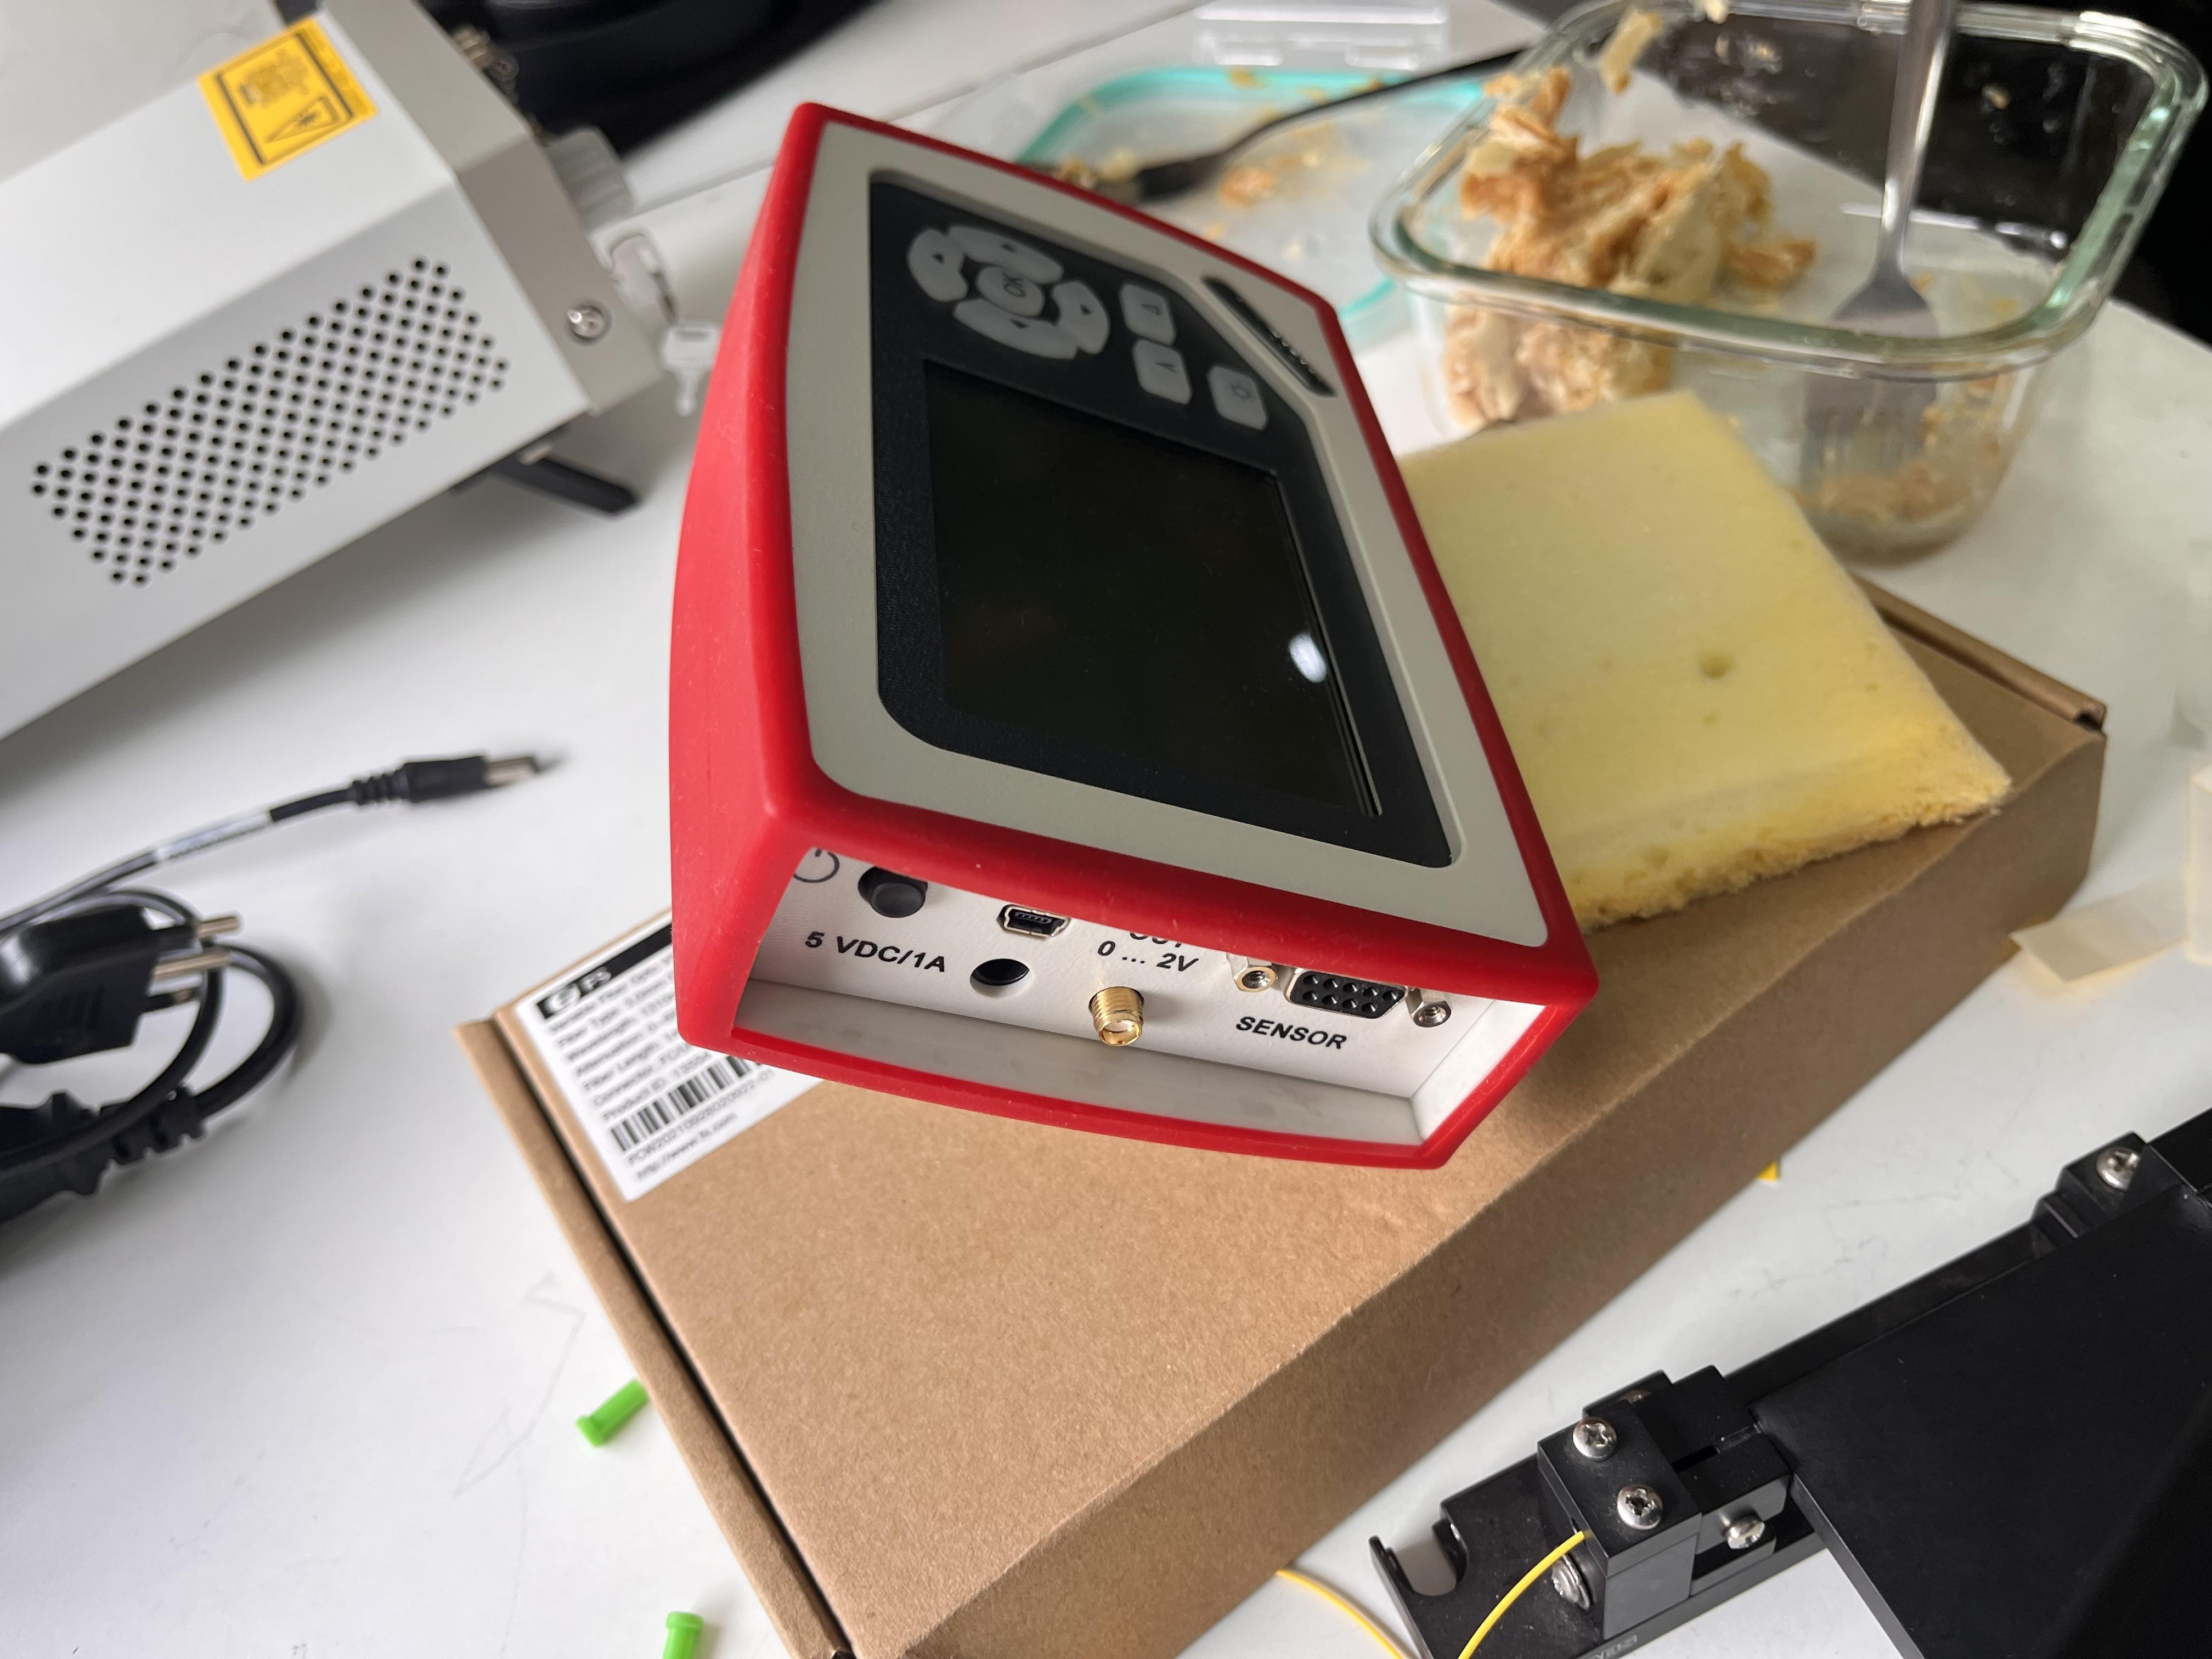paddle_polarization_controller: (1372, 1094, 2211, 1658)
powermeter: (678, 99, 1594, 1180)
